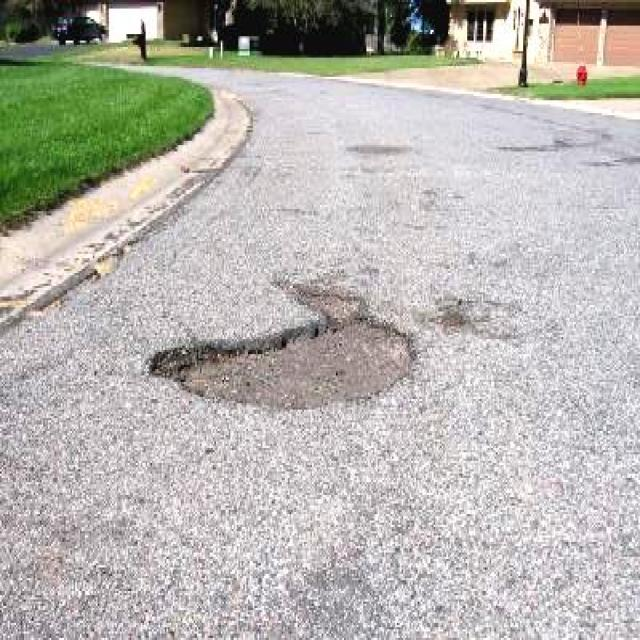pothole: (146, 312, 419, 409)
